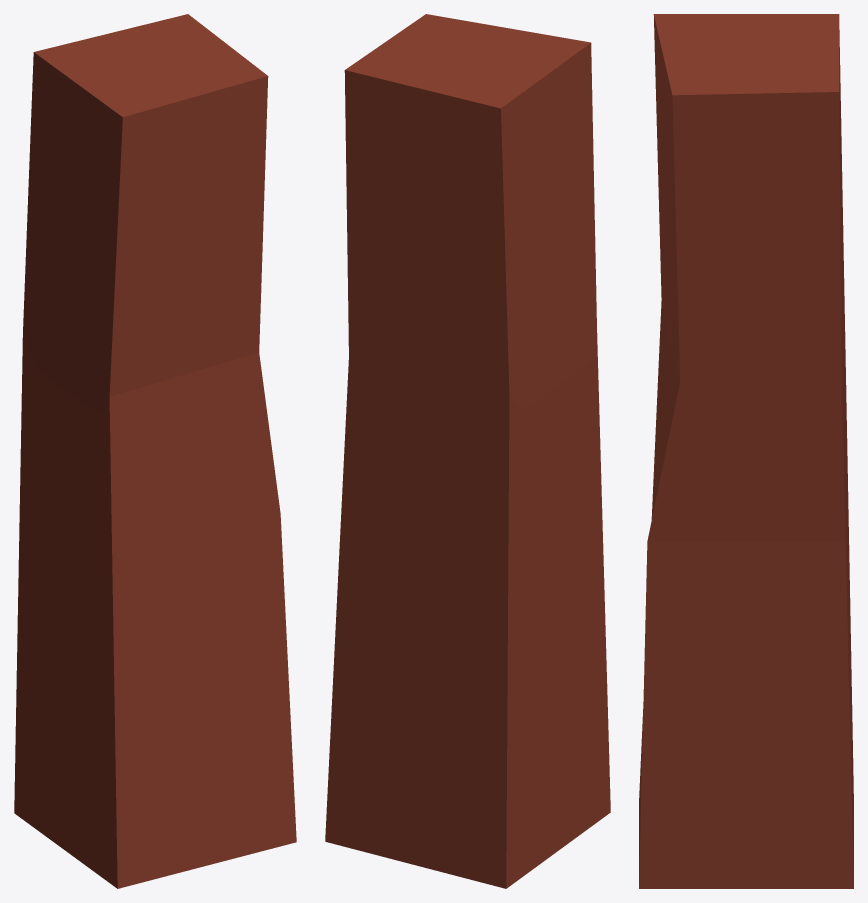
Rendered from treelog_2b.fbx.
3 renders of one model, left to right at view 1: azimuth 30°, elevation 25°; view 2: azimuth 150°, elevation 25°; view 3: azimuth 270°, elevation 25°, orthographic. The views are drawn at different scales.
Parts seen in each view (by area): view 1: treelog_2b; view 2: treelog_2b; view 3: treelog_2b.
Part boxes in pixels (x1,y1,x2,y2): treelog_2b: (14, 14, 296, 888); treelog_2b: (325, 14, 610, 888); treelog_2b: (639, 14, 853, 888).
Bounding box in the file's own units: 49.99 × 204 × 50.
